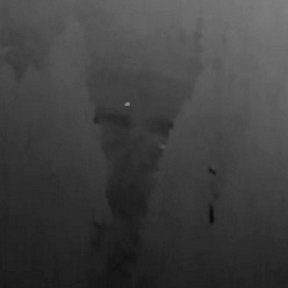Target: (124, 102, 131, 107)
